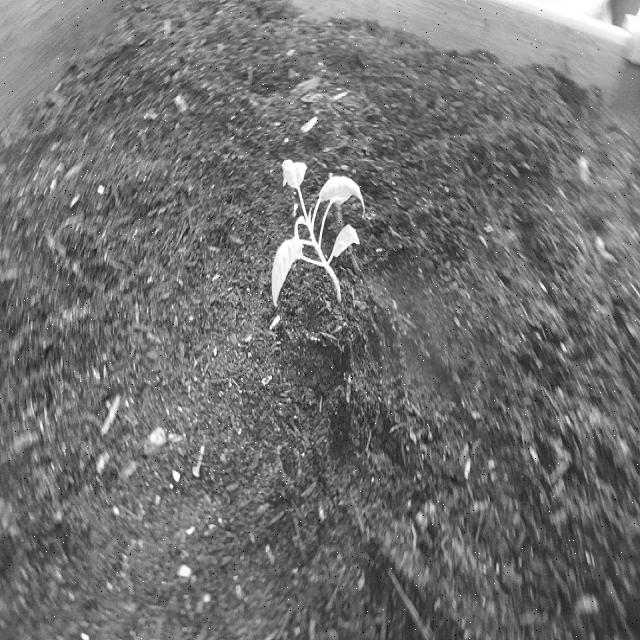Healthy: (266, 149, 369, 324)
